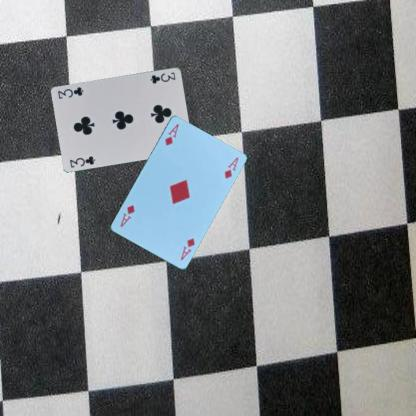3c: (67, 153, 97, 169), (148, 70, 177, 84)
Ad: (162, 121, 180, 147), (178, 235, 196, 261)
